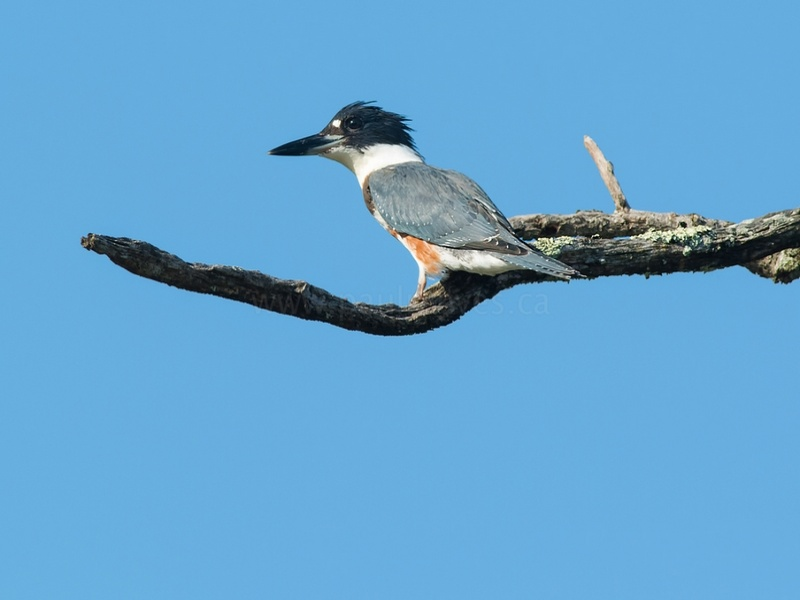kingfisher: (266, 99, 585, 304)
